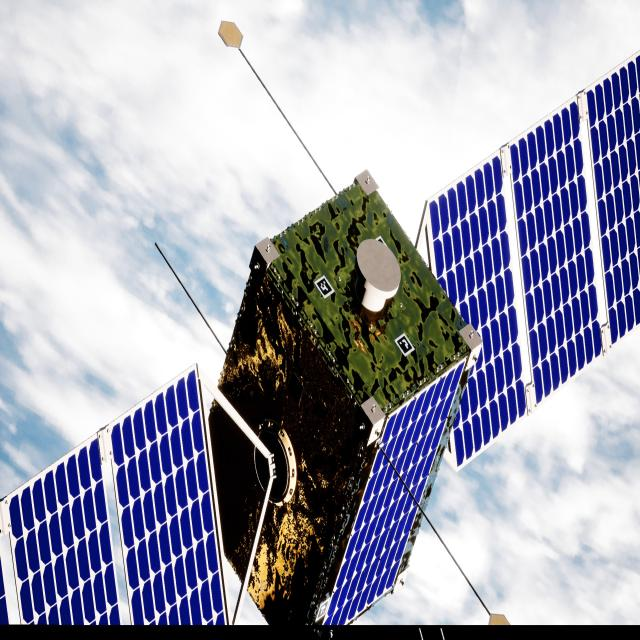medium_debris: (0, 54, 640, 628)
